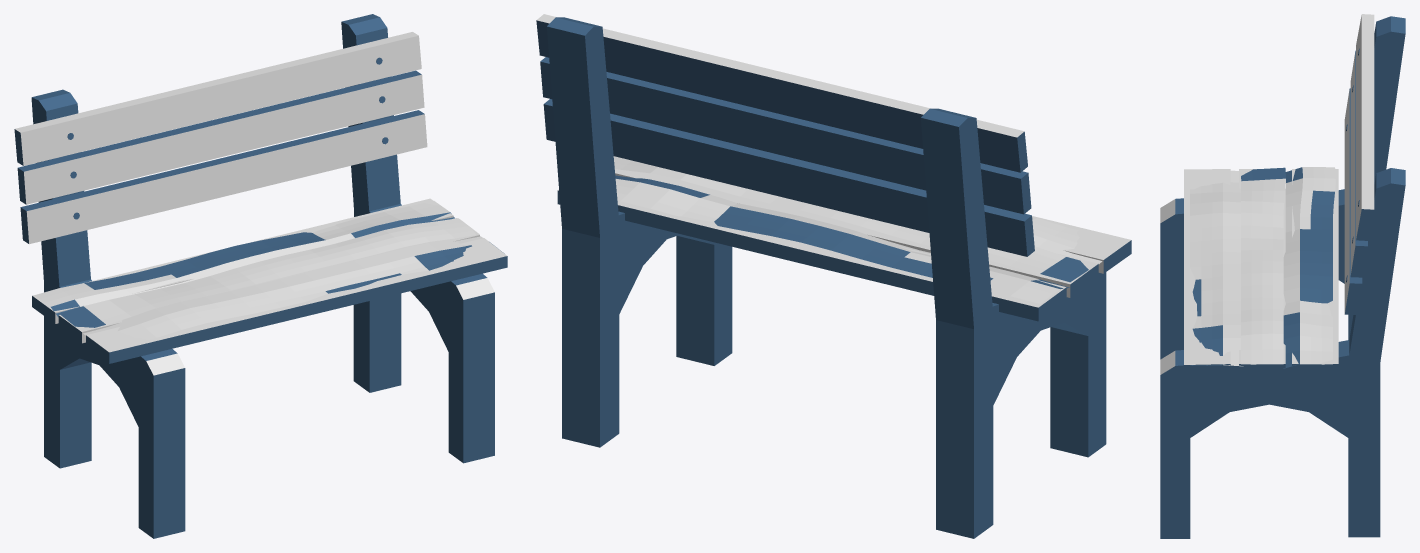
The model's file is bench .fbx.
3 renders of one model, left to right at view 1: azimuth 30°, elevation 25°; view 2: azimuth 150°, elevation 25°; view 3: azimuth 270°, elevation 25°, orthographic. The views are drawn at different scales.
Parts seen in each view (by area): view 1: FirTree.249; view 2: FirTree.249; view 3: FirTree.249.
Boxes of the visible parts, bbox=[...] form: FirTree.249: bbox=[14, 14, 507, 538]; FirTree.249: bbox=[536, 14, 1131, 538]; FirTree.249: bbox=[1160, 14, 1405, 538].
Size of the model in its own units: 146 by 124 by 77.32.
